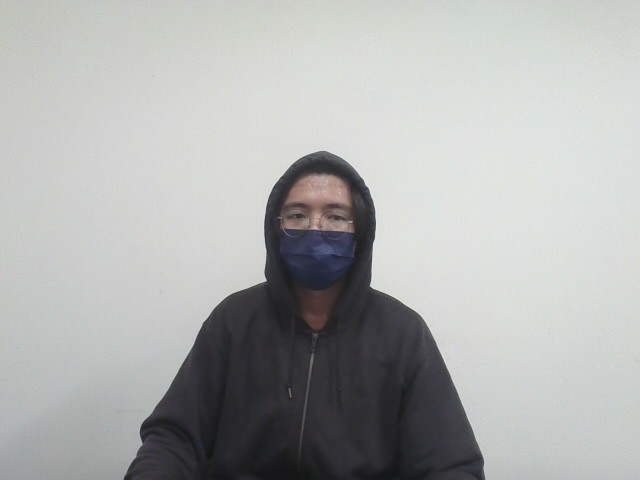No_Helmet: (259, 146, 378, 295)
person: (84, 130, 527, 480)
